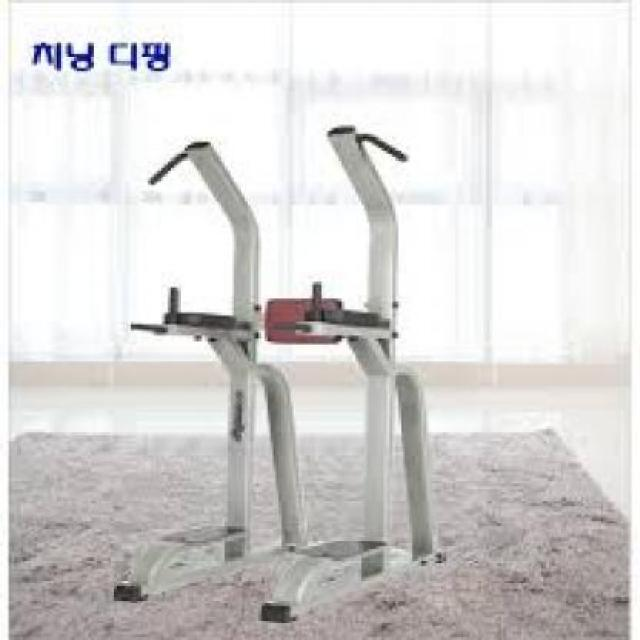chinning dipping: (114, 126, 452, 623)
